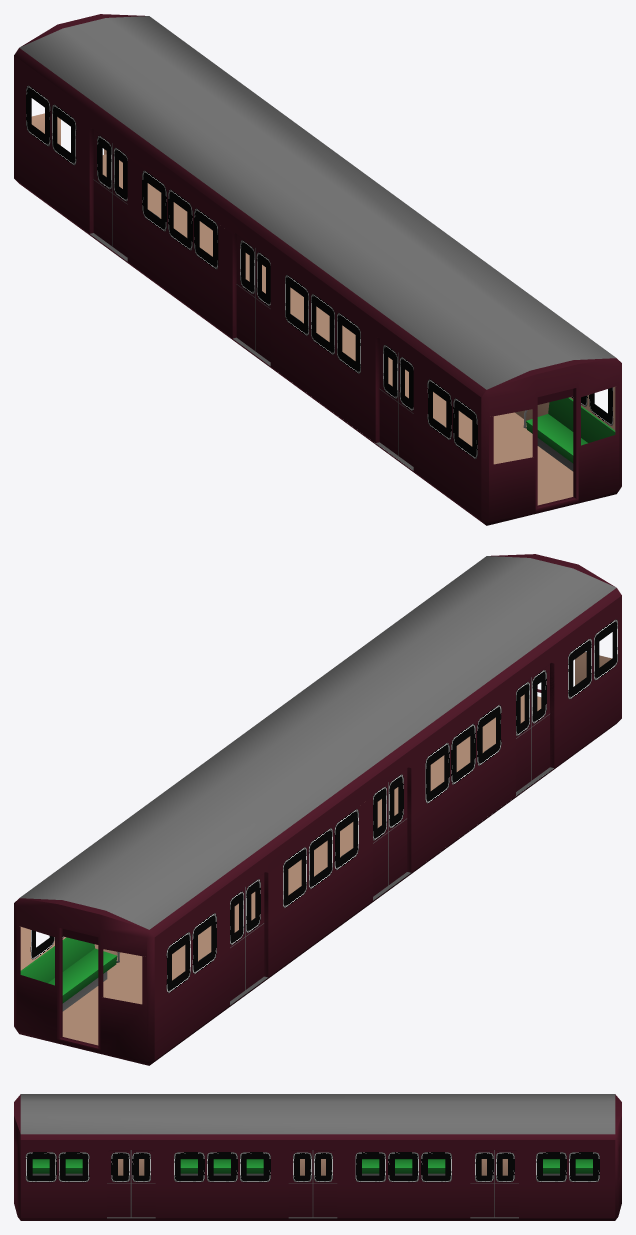
File: HANKYU2000_2.glb
3 views of the same model, one above another, from view 1: azimuth 30°, elevation 25°; view 2: azimuth 150°, elevation 25°; view 3: azimuth 270°, elevation 25° (orthographic). The views are drawn at different scales.
Visible parts, largest first — view 1: body; view 2: body; view 3: body.
Boxes of the visible parts, bbox=[...] form: body: bbox=[14, 14, 621, 525]; body: bbox=[14, 554, 621, 1065]; body: bbox=[14, 1094, 621, 1220].
Size of the model in its own units: 6.53 by 6.42 by 38.46.
9 materials, 8 textured.
